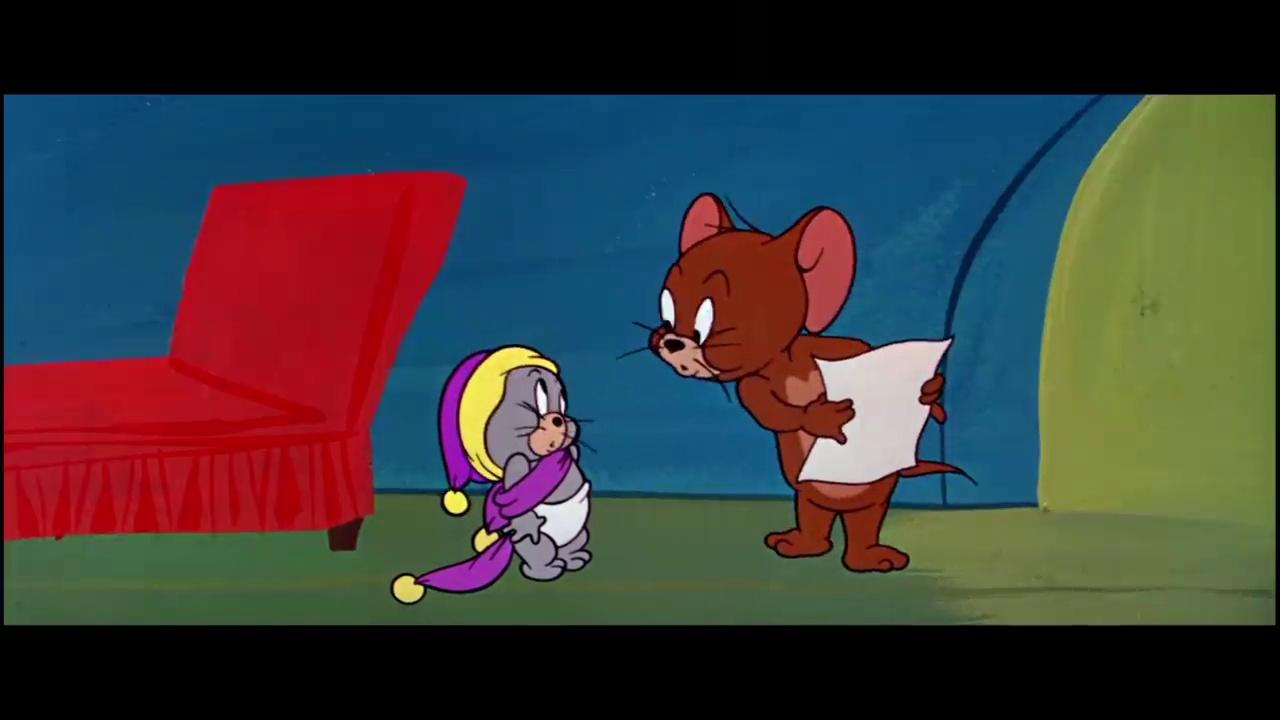Jerry: (617, 190, 982, 572)
